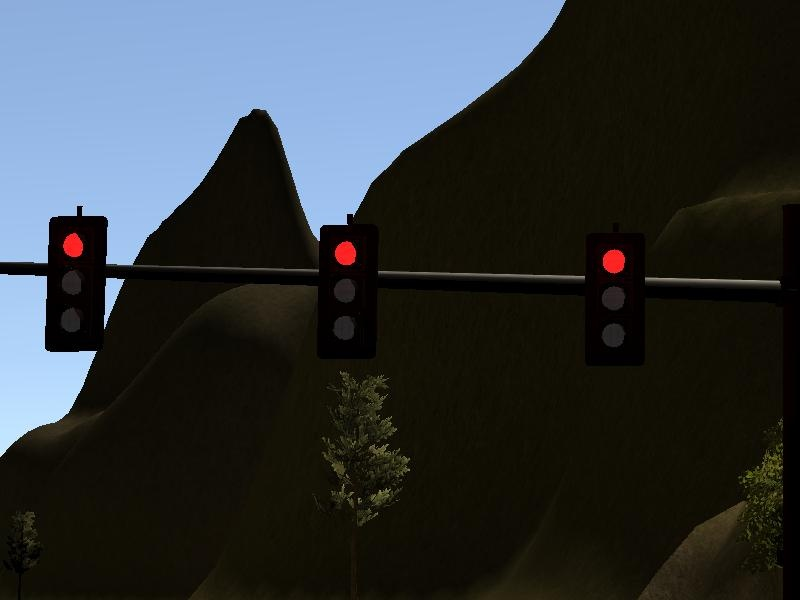RED: (41, 207, 112, 357), (313, 220, 379, 357), (579, 231, 650, 357)
